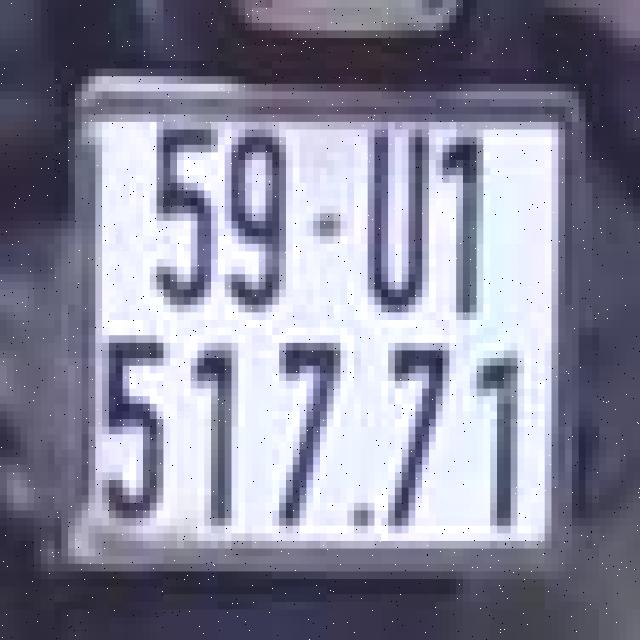1: (188, 331, 255, 545), (439, 122, 501, 335), (473, 336, 528, 534)
5: (89, 308, 170, 522), (140, 106, 221, 304)
7: (269, 320, 344, 533), (371, 328, 446, 533)
9: (221, 111, 303, 316)
U: (358, 114, 426, 320)
